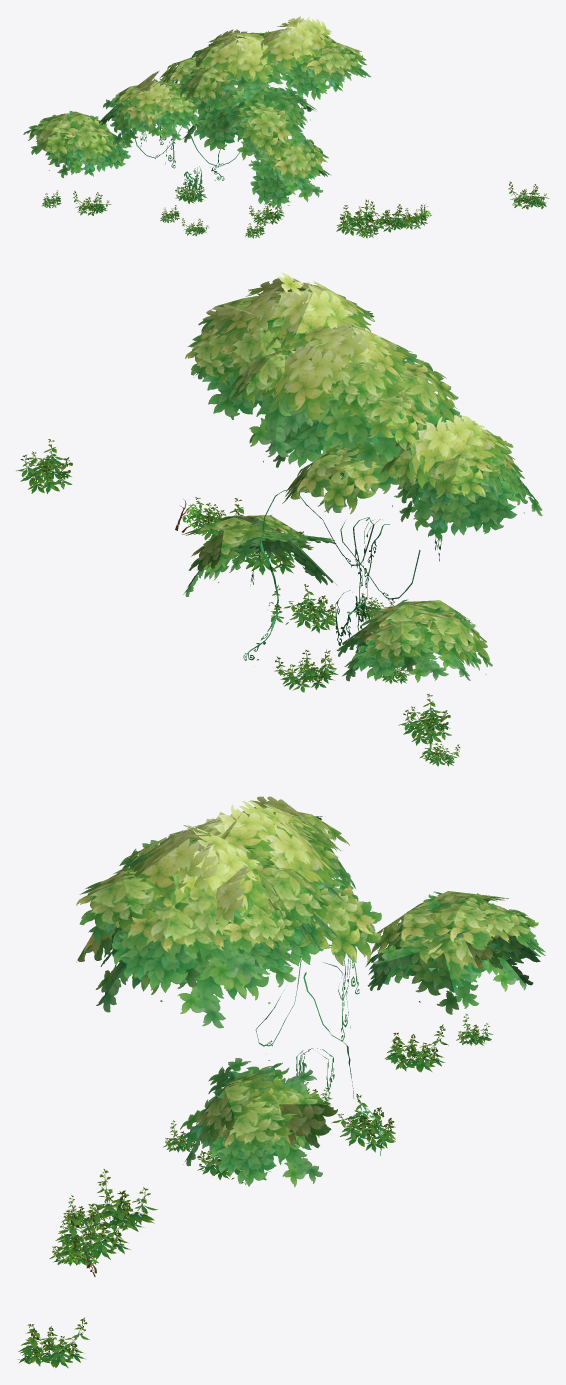
Rendered from zhibei4_1.fbx.
3 renders of one model, top to bottom at view 1: azimuth 30°, elevation 25°; view 2: azimuth 150°, elevation 25°; view 3: azimuth 270°, elevation 25°, orthographic. The views are drawn at different scales.
Parts seen in each view (by area): view 1: zhibei4_1; view 2: zhibei4_1; view 3: zhibei4_1.
Part boxes in pixels (x1,y1,x2,y2): zhibei4_1: (23,16,549,238); zhibei4_1: (16,272,542,766); zhibei4_1: (18,796,545,1368).
Bounding box in the file's own units: 3267 × 1578 × 2088.
